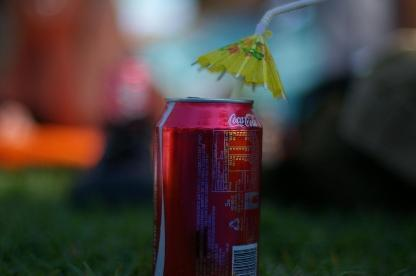Can: (152, 96, 264, 276)
